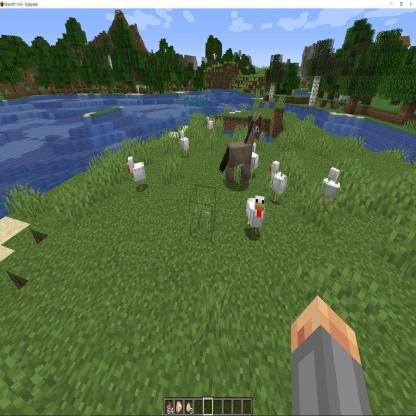minecraft-pigs: (192, 150, 252, 266)
